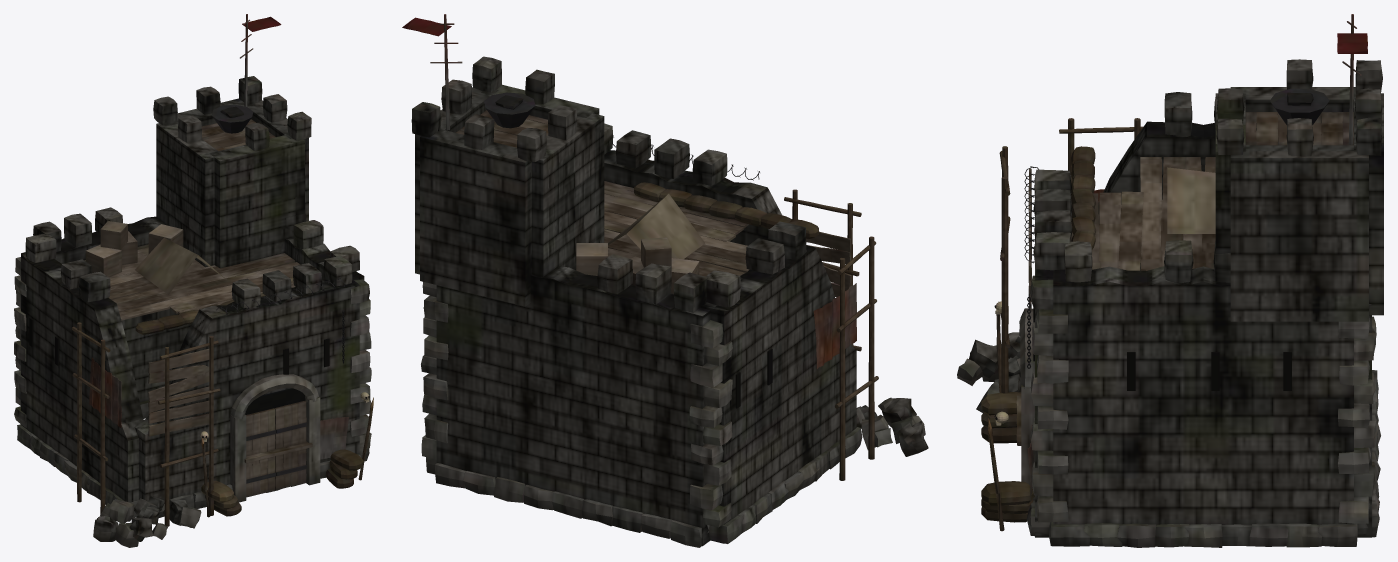
Rendered from keep_ruin.glb.
The picture shows the model from 3 angles, left to right: view 1: azimuth 30°, elevation 25°; view 2: azimuth 150°, elevation 25°; view 3: azimuth 270°, elevation 25°; orthographic projection. The views are drawn at different scales.
Visible parts, largest first — view 1: keep_ruin; view 2: keep_ruin; view 3: keep_ruin.
Boxes of the visible parts, left/top/right/bottom form: keep_ruin: left=14, top=14, right=373, bottom=547; keep_ruin: left=402, top=14, right=928, bottom=547; keep_ruin: left=957, top=14, right=1383, bottom=547.
Size of the model in its own units: 8.13 by 9.77 by 7.1.
Materials: 1 (1 with a texture image).
